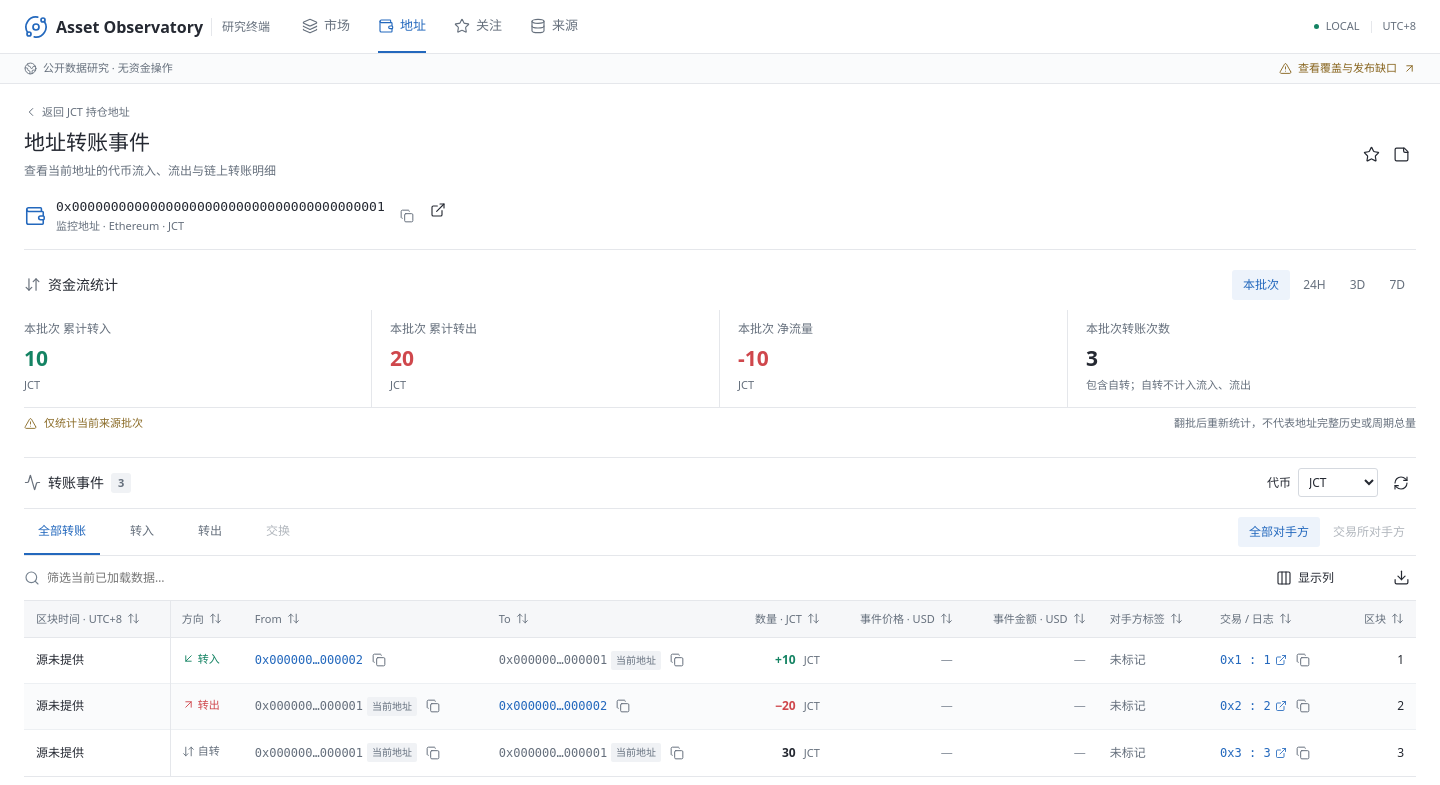
Test: UI07-08 direction filtering excludes self and history stays explicitly missing
Expected: the text "+10" is shown, x1=775 y1=651 x2=820 y2=668
Expected: the column heading "From" is shown, x1=243 y1=600 x2=487 y2=638
Click the button "转出" at (210, 532), box x1=184 y1=509 x2=236 y2=555
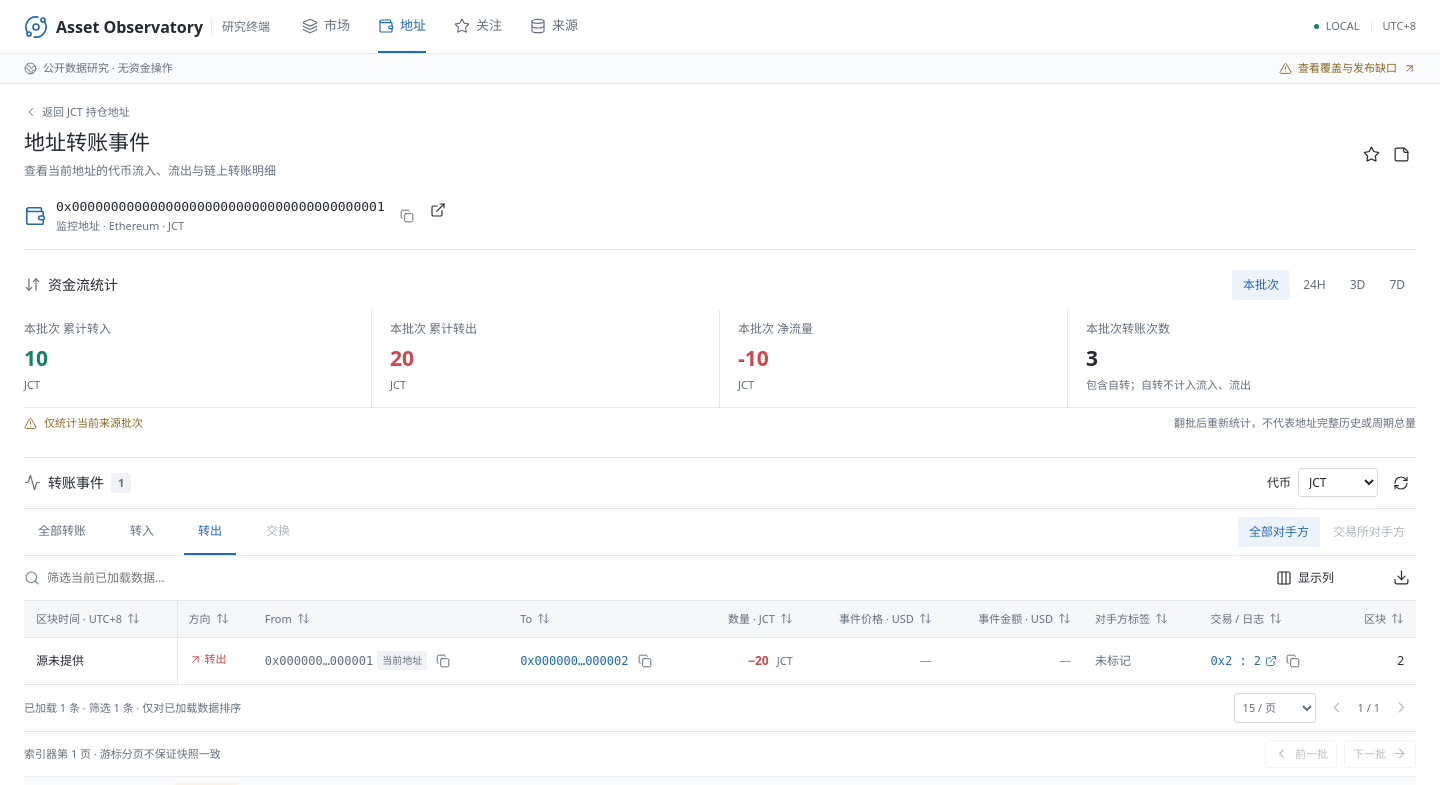
Expected: the text "−20" is shown, x1=748 y1=652 x2=793 y2=669
Result: the text "+10" is gone
Result: the text "30" is gone
Click the button "7D" at (1397, 285), box x1=1378 y1=270 x2=1416 y2=300
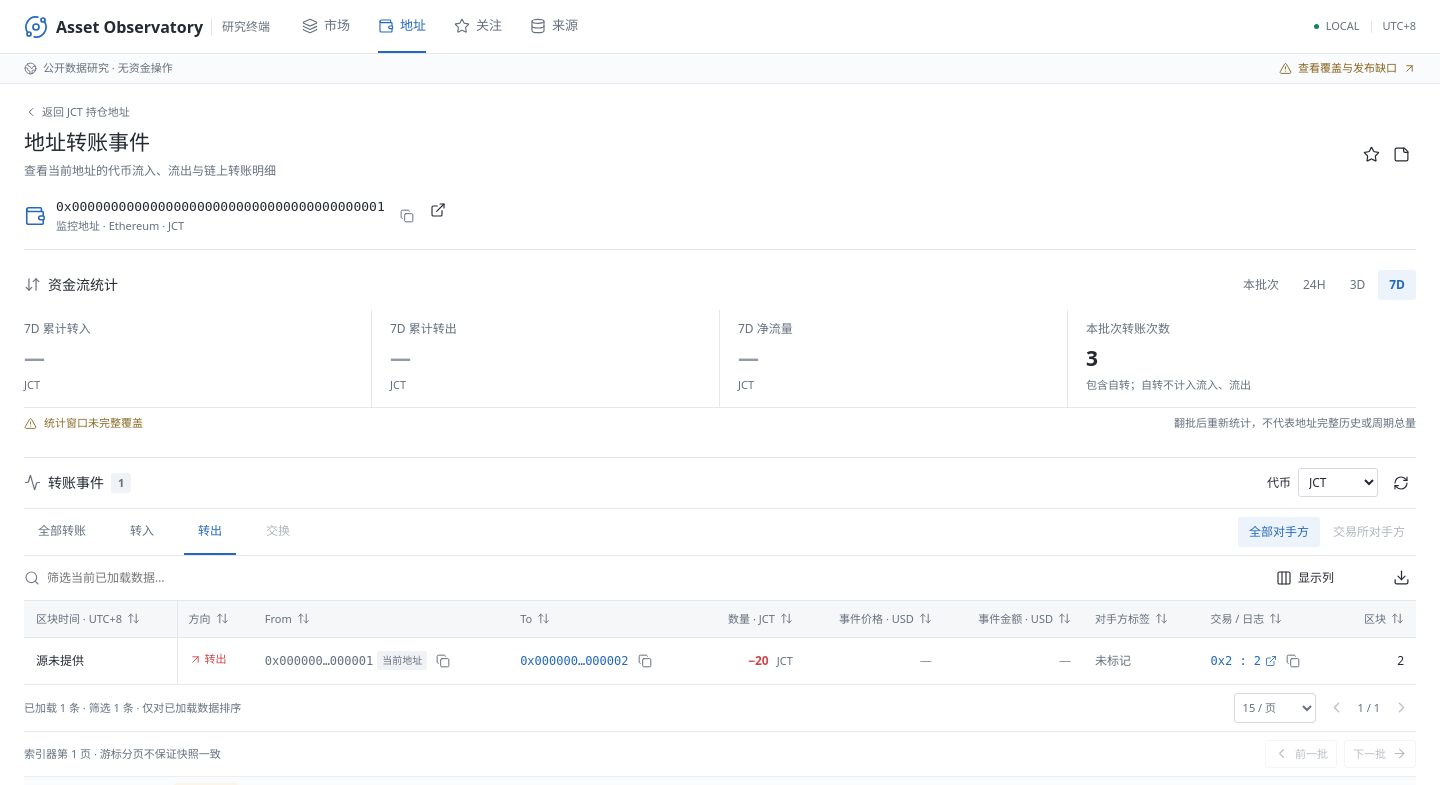
Expected: the text "−20" is shown, x1=748 y1=652 x2=793 y2=669
Result: the text "7D 累计转入" is shown at x1=24 y1=320 x2=91 y2=337
Result: the text "统计窗口未完整覆盖" is shown at x1=44 y1=415 x2=143 y2=432
